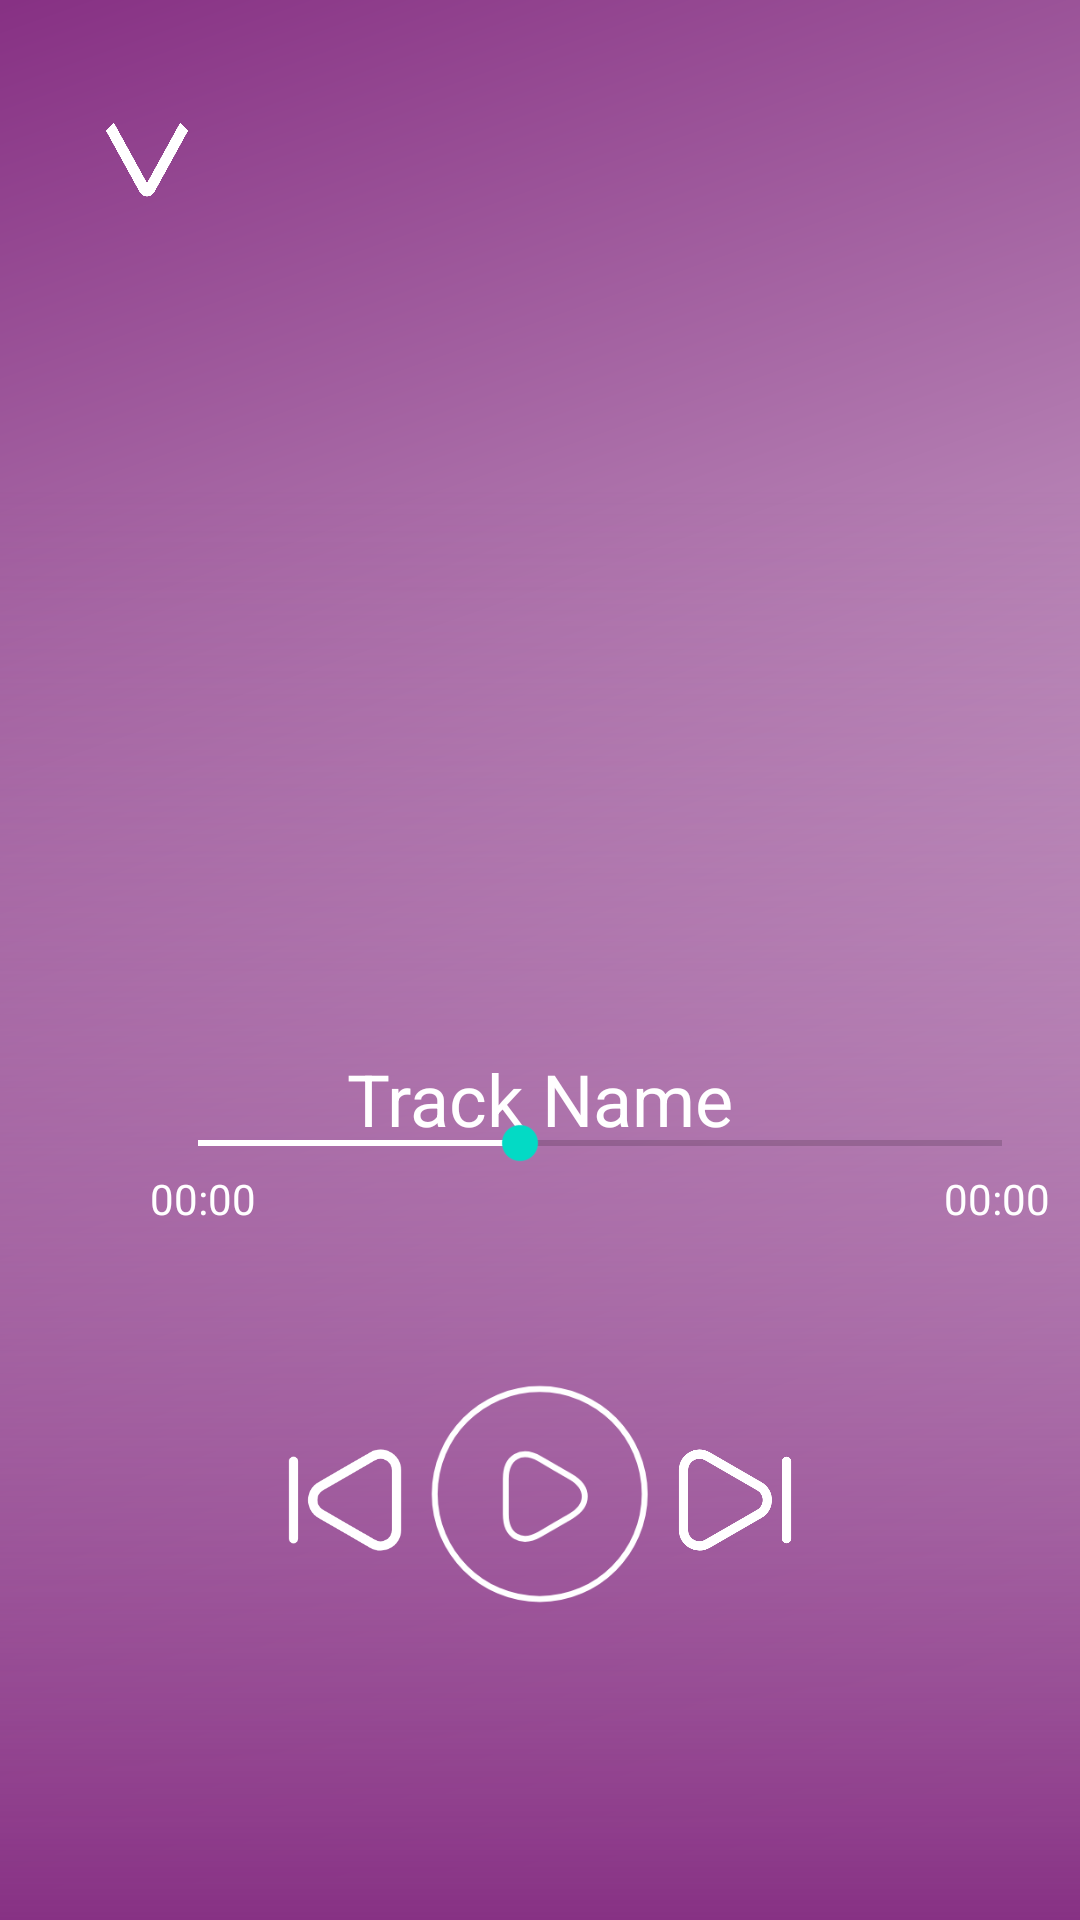

Icon bounding boxes for this 1080 x 1920 phone screenshot, format BBox(x1, y1, x2, y2):
close audio: BBox(106, 123, 188, 197)
next left: BBox(288, 1449, 402, 1551)
next right: BBox(679, 1449, 791, 1551)
playcircle: BBox(431, 1385, 648, 1602)
